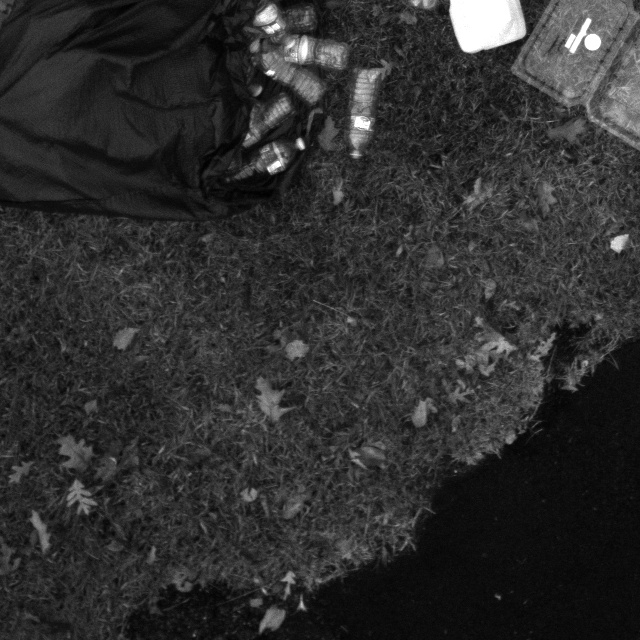bottle: (254, 42, 330, 115), (227, 136, 311, 186), (273, 26, 354, 73), (349, 72, 379, 165)
can: (440, 0, 531, 60), (442, 0, 529, 57)
container: (505, 0, 640, 162)
